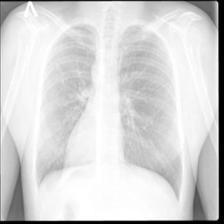tuberculosis: (25, 14, 188, 213)
